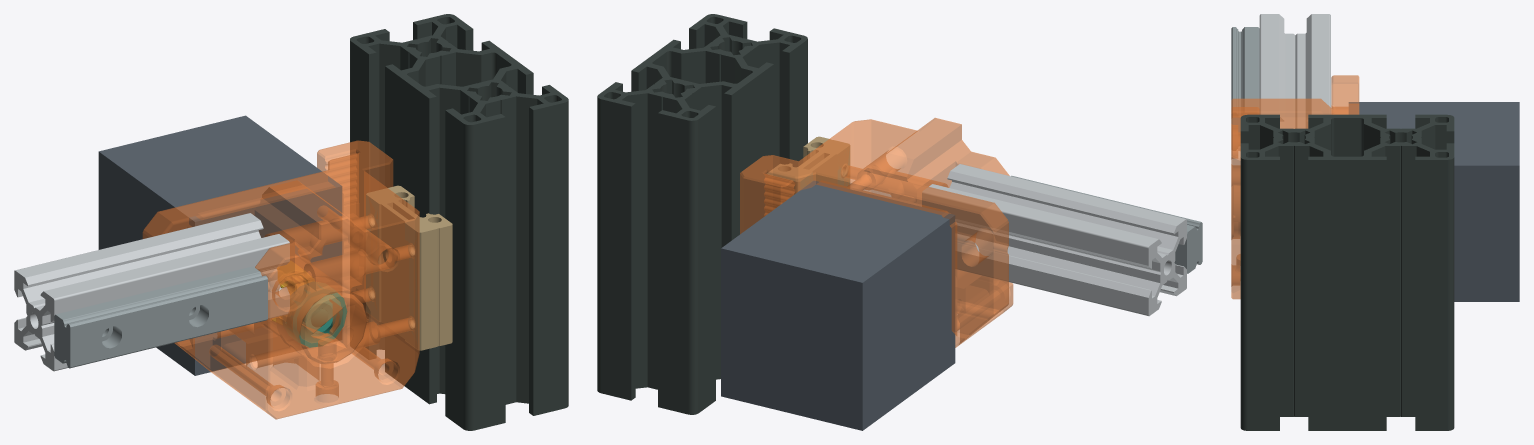
File: right_after.glb
The picture shows the model from 3 angles, left to right: view 1: azimuth 30°, elevation 25°; view 2: azimuth 150°, elevation 25°; view 3: azimuth 270°, elevation 25°; orthographic projection. The views are drawn at different scales.
Visible parts, largest first — view 1: col_right, X_Mount_Right_AWD, LDO_Nema_17_42STH48-2504AC_Right#0, X_Extrusion_2020_304_2mm, MGN12_rail_X_282_3mm, slider_right, Bearing_625_2RS_Right; view 2: col_right, LDO_Nema_17_42STH48-2504AC_Right#0, X_Extrusion_2020_304_2mm, X_Mount_Right_AWD, slider_right, MGN12_rail_X_282_3mm; view 3: col_right, LDO_Nema_17_42STH48-2504AC_Right#0, X_Extrusion_2020_304_2mm, X_Mount_Right_AWD, MGN12_rail_X_282_3mm.
Part boxes in pixels (left/top/right/bottom): col_right: left=350, top=14, right=568, bottom=430; X_Mount_Right_AWD: left=142, top=140, right=419, bottom=419; LDO_Nema_17_42STH48-2504AC_Right#0: left=98, top=115, right=342, bottom=375; X_Extrusion_2020_304_2mm: left=14, top=213, right=289, bottom=371; MGN12_rail_X_282_3mm: left=54, top=266, right=267, bottom=368; slider_right: left=366, top=185, right=452, bottom=350; Bearing_625_2RS_Right: left=285, top=283, right=347, bottom=347; col_right: left=597, top=14, right=807, bottom=414; LDO_Nema_17_42STH48-2504AC_Right#0: left=721, top=180, right=955, bottom=430; X_Extrusion_2020_304_2mm: left=922, top=164, right=1186, bottom=316; X_Mount_Right_AWD: left=740, top=118, right=1013, bottom=347; slider_right: left=767, top=136, right=850, bottom=194; MGN12_rail_X_282_3mm: left=1011, top=175, right=1202, bottom=273; col_right: left=1240, top=114, right=1454, bottom=430; LDO_Nema_17_42STH48-2504AC_Right#0: left=1348, top=102, right=1519, bottom=301; X_Extrusion_2020_304_2mm: left=1259, top=14, right=1330, bottom=128; X_Mount_Right_AWD: left=1231, top=75, right=1359, bottom=299; MGN12_rail_X_282_3mm: left=1231, top=27, right=1259, bottom=132.
Bounding box in the file's own units: 0.1456 × 0.084 × 0.081.
